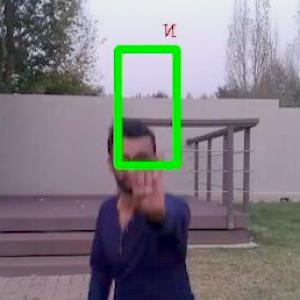takeoff-hand: (116, 144, 179, 220)
